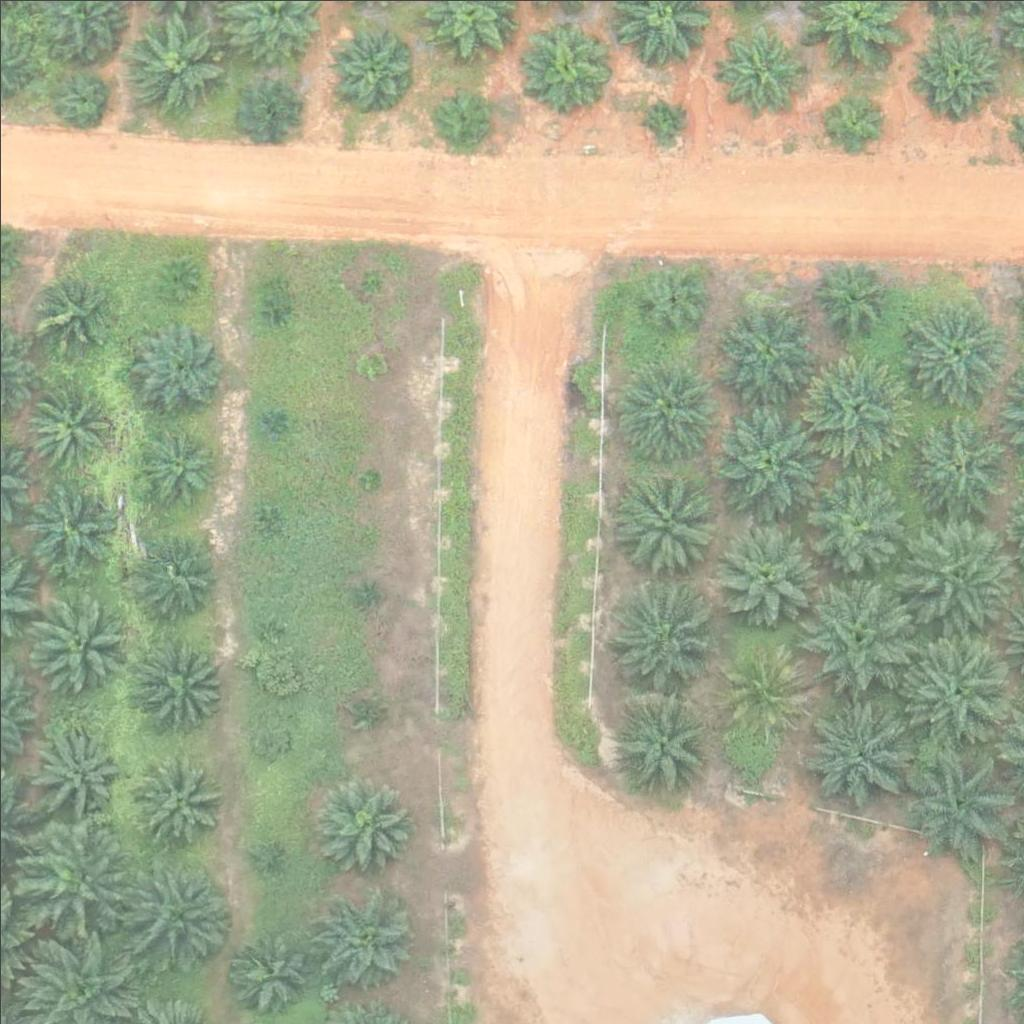Kelapa_Sawit: (121, 857, 234, 971), (797, 694, 910, 808), (799, 578, 912, 692), (899, 743, 1012, 857), (710, 406, 823, 519), (19, 823, 131, 937), (900, 637, 1012, 751), (798, 345, 910, 458), (122, 309, 234, 422), (603, 580, 715, 693), (903, 513, 1015, 626), (28, 591, 128, 692), (20, 479, 120, 580), (313, 887, 413, 988), (315, 779, 415, 880), (613, 692, 713, 793), (716, 300, 816, 401), (907, 409, 1007, 510), (903, 302, 1003, 403), (123, 12, 223, 113), (618, 473, 718, 573), (613, 359, 713, 459), (712, 520, 812, 620), (806, 470, 906, 570), (128, 422, 216, 511), (131, 531, 219, 619), (22, 379, 110, 467), (719, 642, 807, 730), (717, 24, 805, 112), (325, 20, 413, 108), (31, 726, 118, 814), (131, 759, 218, 847), (138, 637, 225, 725), (225, 930, 312, 1018), (906, 27, 993, 115), (519, 15, 606, 103), (632, 261, 707, 337), (28, 274, 103, 349), (814, 256, 889, 331), (238, 75, 301, 138), (824, 94, 886, 157), (429, 82, 491, 145), (56, 71, 106, 121), (249, 717, 287, 755), (156, 262, 194, 300), (642, 99, 679, 137), (249, 845, 274, 870), (253, 615, 278, 640), (259, 499, 284, 524), (353, 695, 378, 720), (353, 582, 378, 607), (357, 464, 382, 489), (361, 352, 386, 377), (358, 268, 383, 293), (258, 410, 283, 435), (265, 300, 290, 325)
